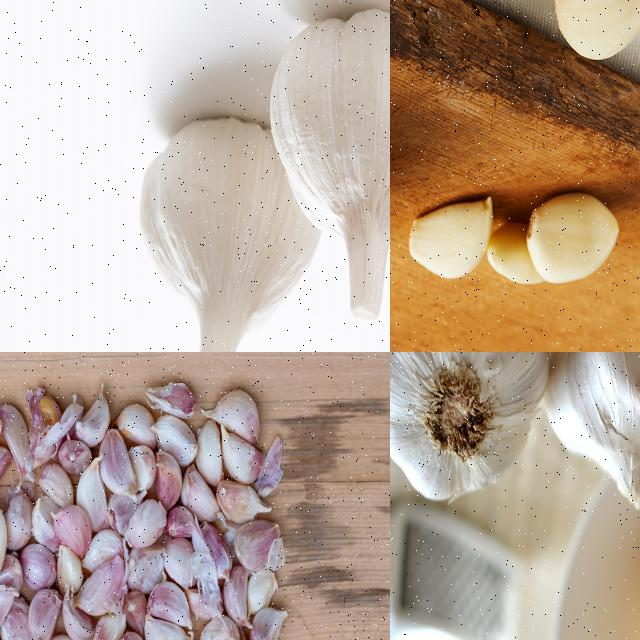garlic: (0, 381, 284, 639), (137, 114, 325, 351), (265, 2, 389, 325), (390, 352, 556, 510), (538, 352, 639, 513), (489, 194, 623, 290), (404, 194, 493, 278), (550, 0, 639, 65)
